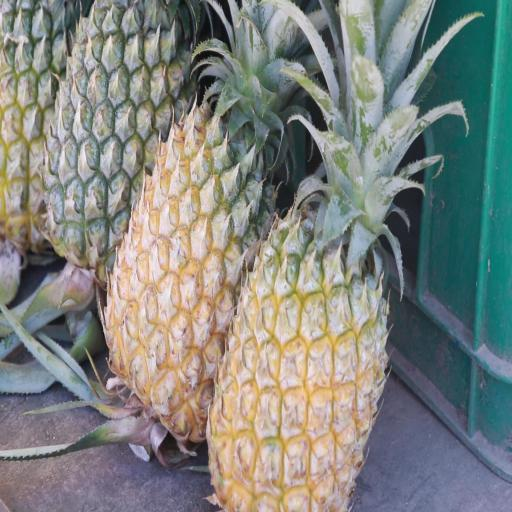Pineapple - v8 v1: (21, 83, 102, 150)
